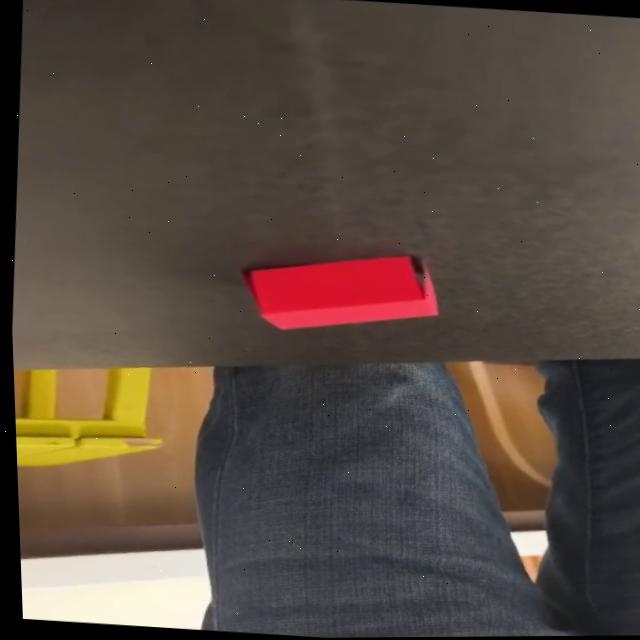red block: (240, 242, 444, 341)
